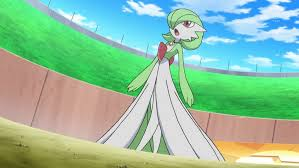gardevoir: (93, 7, 226, 163)
